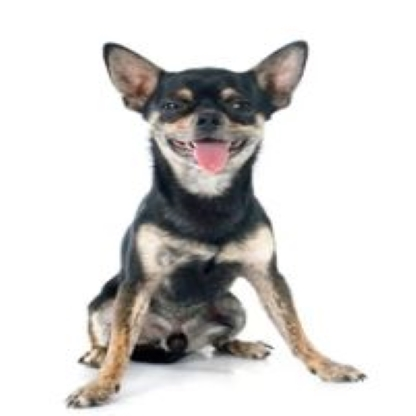chihuahua: (63, 36, 369, 407)
